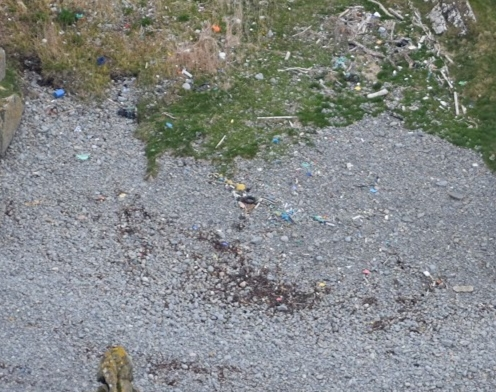scattered_barrel: (231, 130, 320, 227), (168, 15, 270, 93), (35, 48, 123, 103)
together_barrel: (288, 5, 462, 110)
white_in_green: (57, 134, 108, 178)
